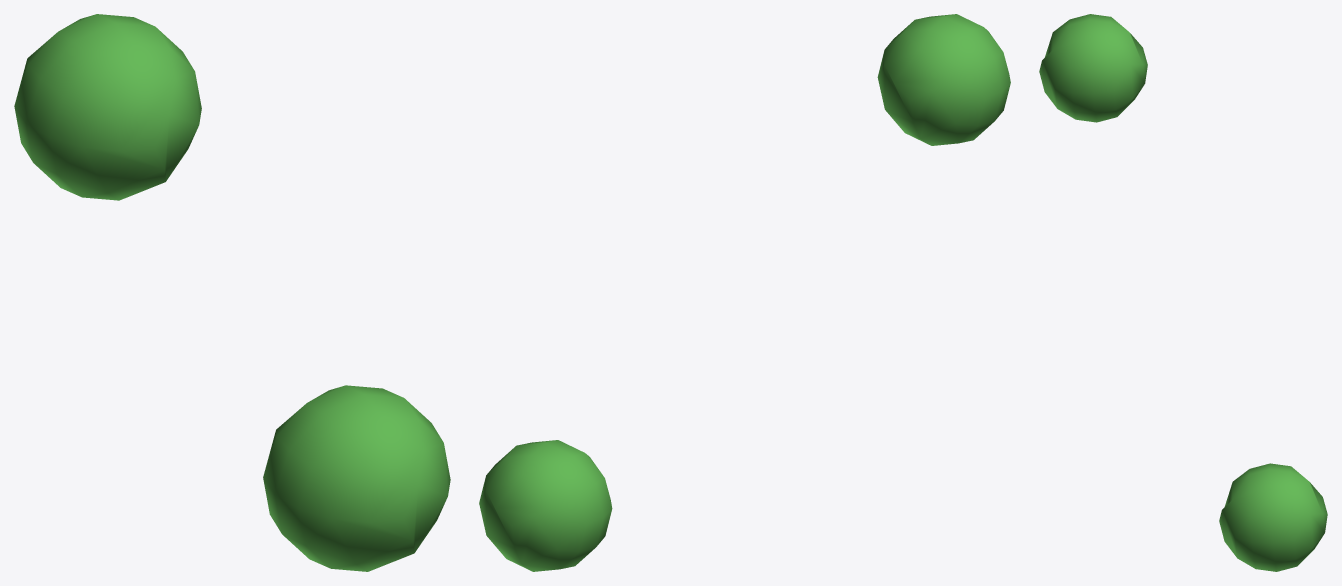
The model's file is linfatico-inferior-epigastric-nodes-l.glb.
The picture shows the model from 3 angles, left to right: view 1: azimuth 30°, elevation 25°; view 2: azimuth 150°, elevation 25°; view 3: azimuth 270°, elevation 25°; orthographic projection. The views are drawn at different scales.
Visible parts, largest first — view 1: Inferior epigastric nodes.l; view 2: Inferior epigastric nodes.l; view 3: Inferior epigastric nodes.l.
Boxes of the visible parts, x1,y1,x2,y2 form: Inferior epigastric nodes.l: (14, 14, 450, 571); Inferior epigastric nodes.l: (479, 14, 1010, 571); Inferior epigastric nodes.l: (1039, 14, 1327, 571).
Size of the model in its own units: 0.00902 by 0.0114 by 0.00689.
